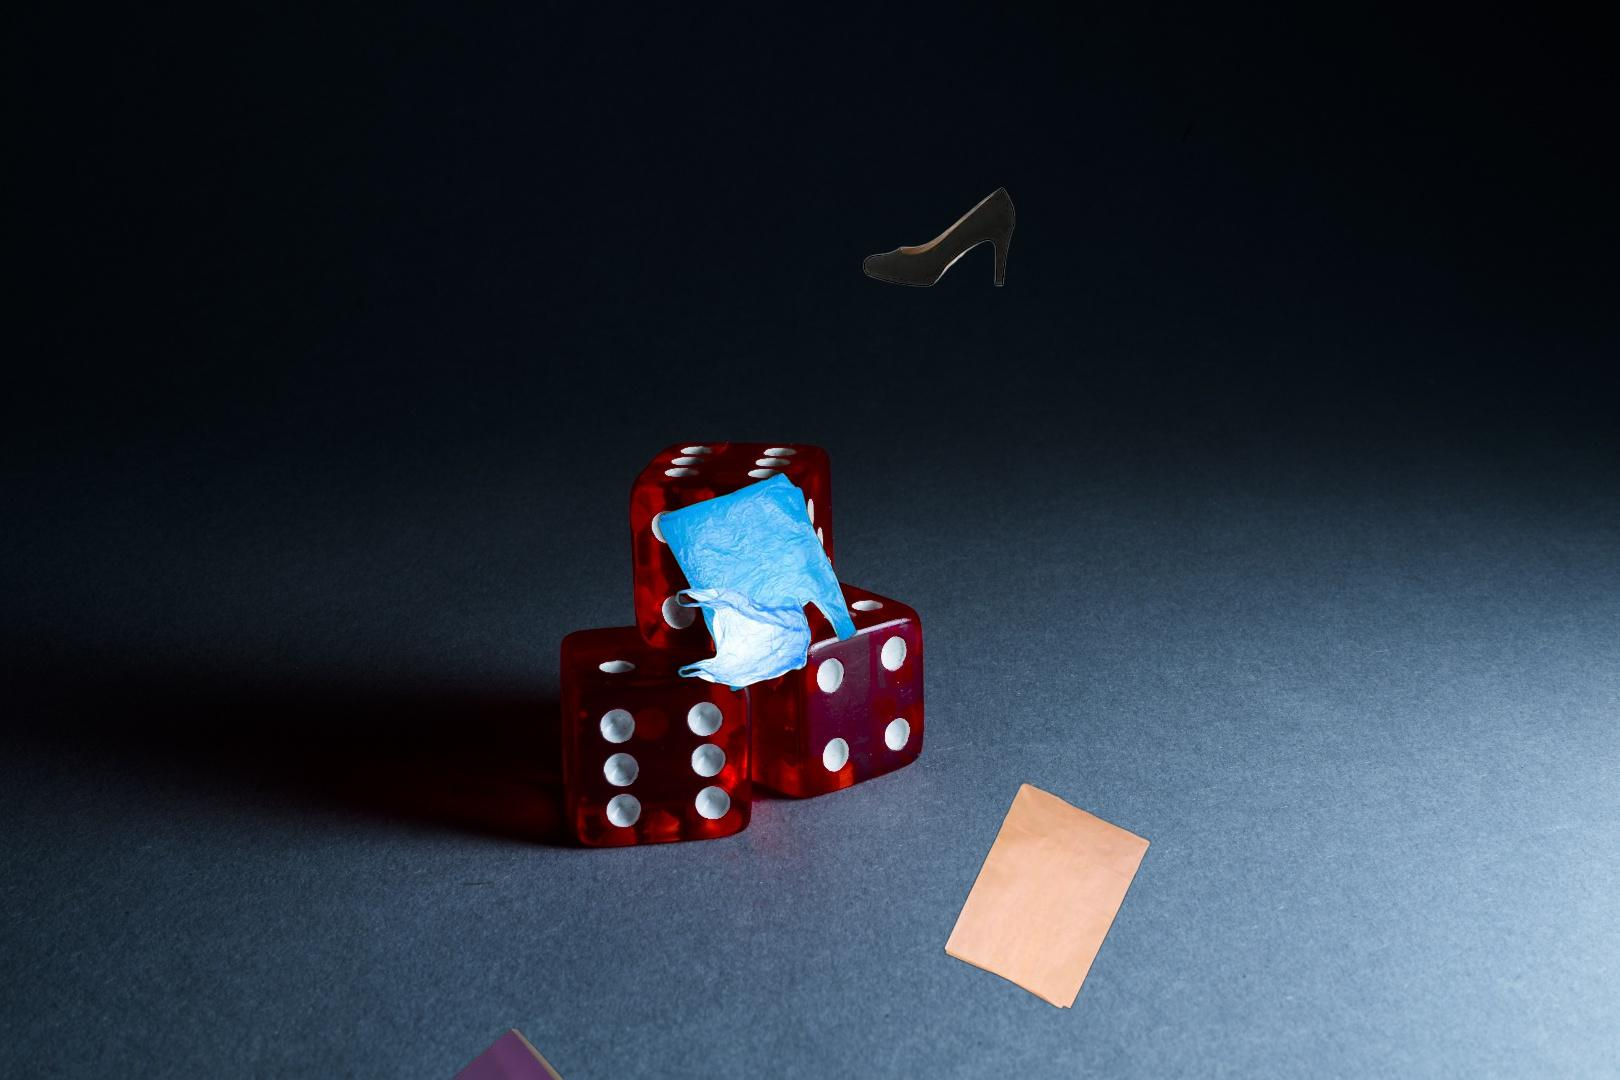paper: (335, 1025, 702, 1080)
paper-bag: (941, 780, 1154, 1011)
plastic-bag: (655, 471, 859, 694)
shoes: (859, 184, 1019, 289)
